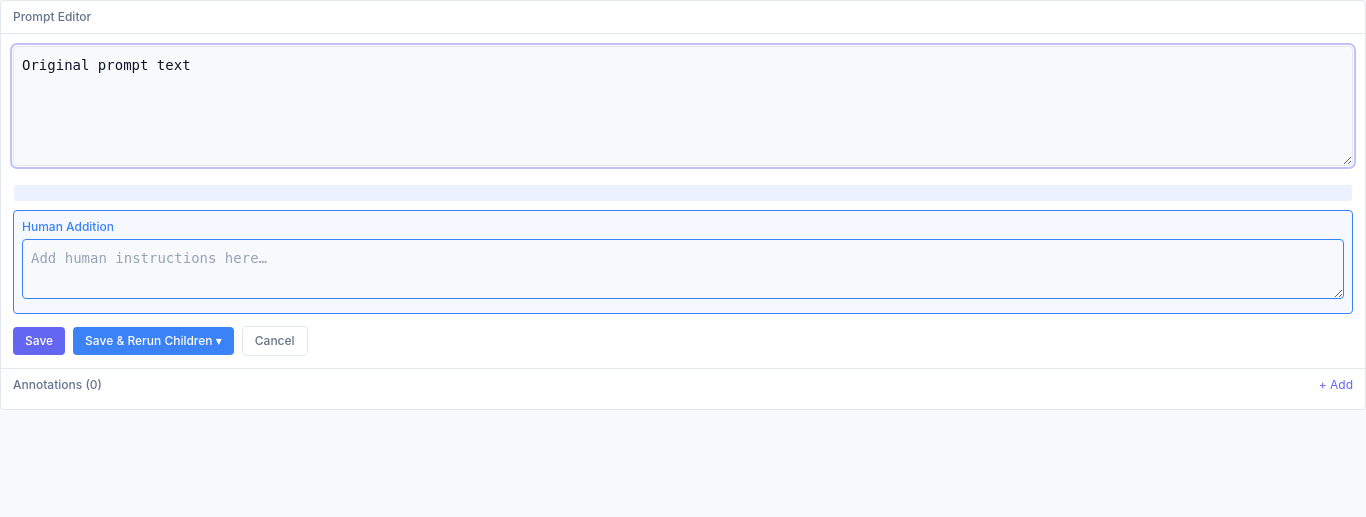
PromptEditor › shows diff view when prompt changes
The width and height of the screenshot is (1366, 517).
// Modify prompt to trigger diff.
Replace the text in the text box with test id "prompt-textarea" with "New prompt text". click: (683, 106)
box: [13,46,1353,166]
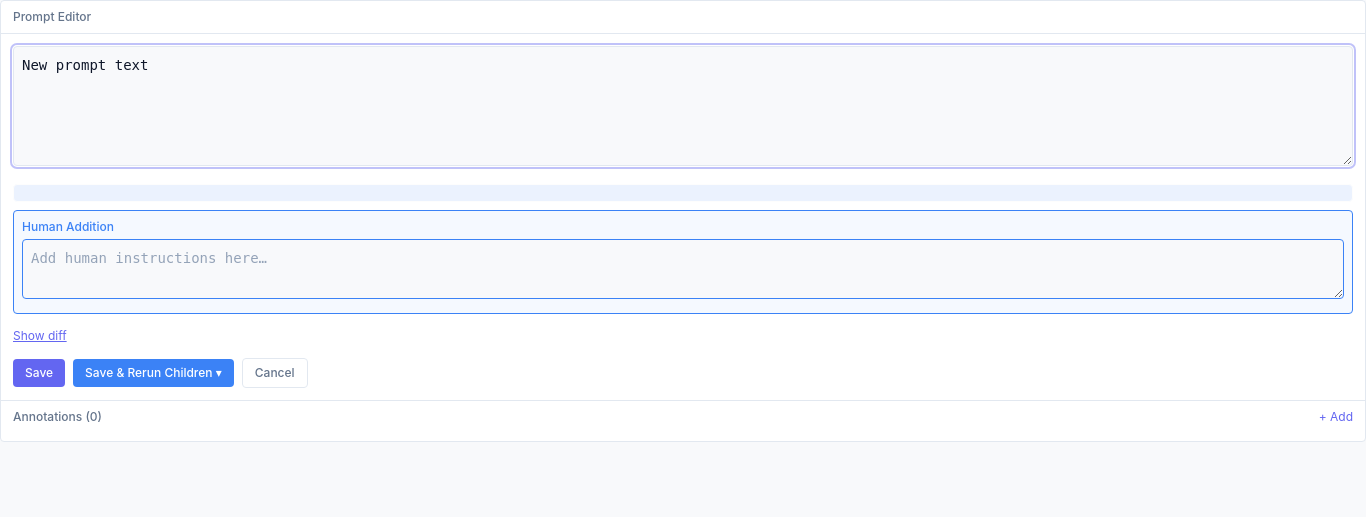
expect the button with test id "diff-toggle" is shown: met
Click the button with test id "diff-toggle". click: (40, 336)
box: [13,328,67,344]
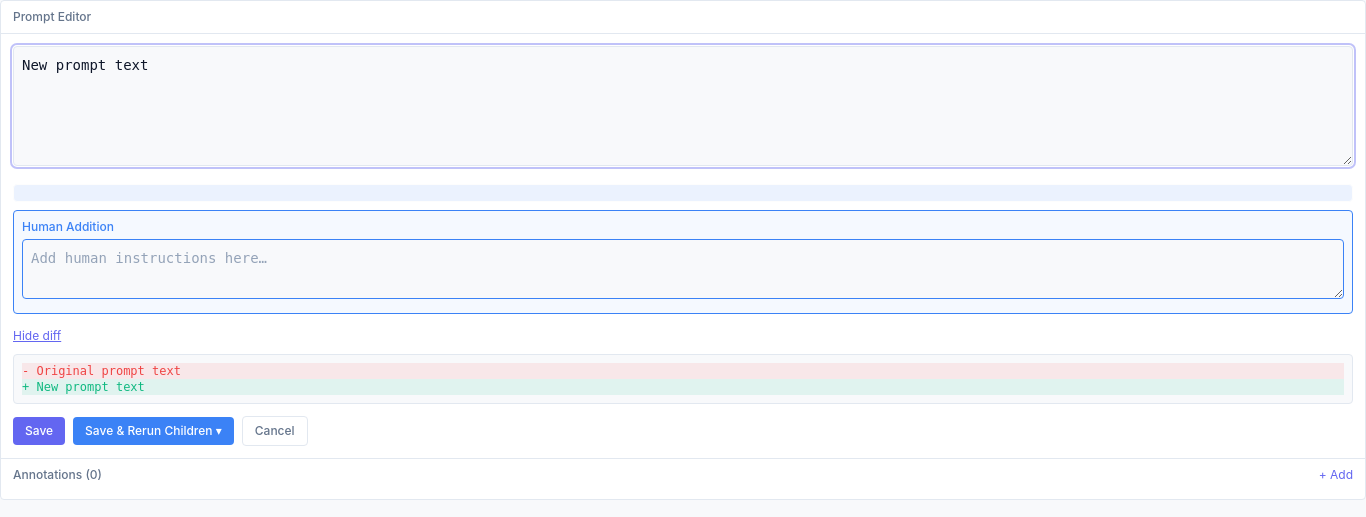
expect the element with test id "diff-view" is shown: met, box [13,354,1353,404]
